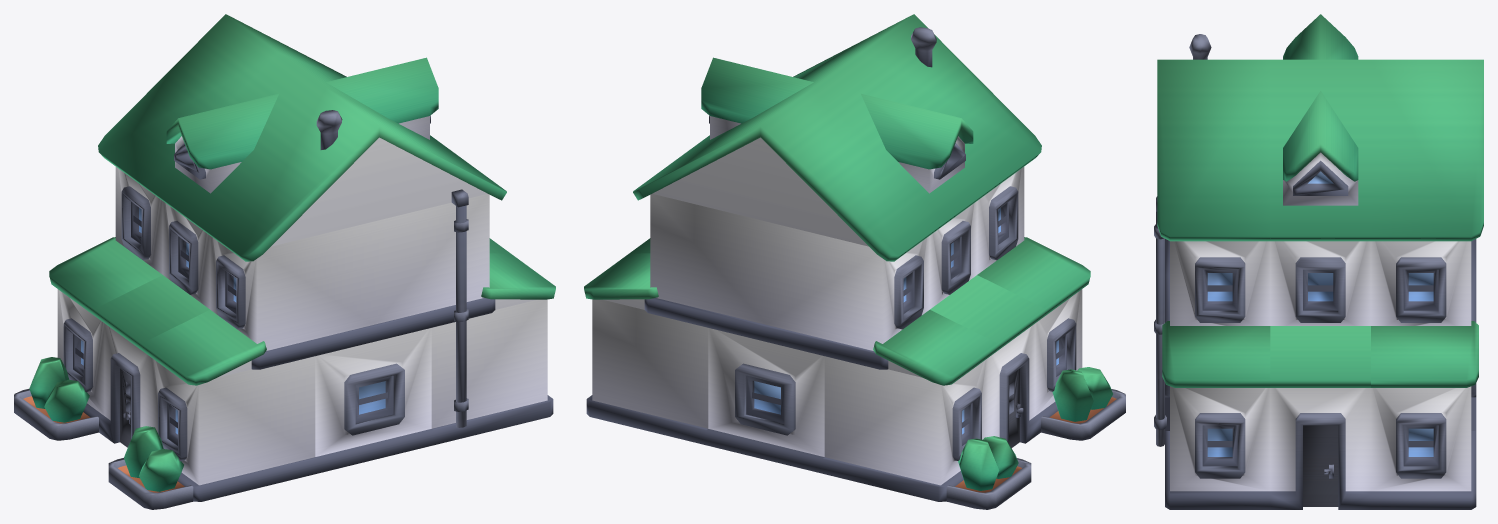
File: n1_building-type-t_lev1.glb
The picture shows the model from 3 angles, left to right: view 1: azimuth 30°, elevation 25°; view 2: azimuth 150°, elevation 25°; view 3: azimuth 270°, elevation 25°; orthographic projection. The views are drawn at different scales.
Parts seen in each view (by area): view 1: n1_building-type-t_lev1; view 2: n1_building-type-t_lev1; view 3: n1_building-type-t_lev1.
Boxes of the visible parts, x1,y1,x2,y2 form: n1_building-type-t_lev1: [14, 14, 555, 509]; n1_building-type-t_lev1: [584, 14, 1125, 509]; n1_building-type-t_lev1: [1154, 14, 1483, 509].
Bounding box in the file's own units: 10.9 × 8.7 × 7.17.
Materials: 1 (1 with a texture image).
